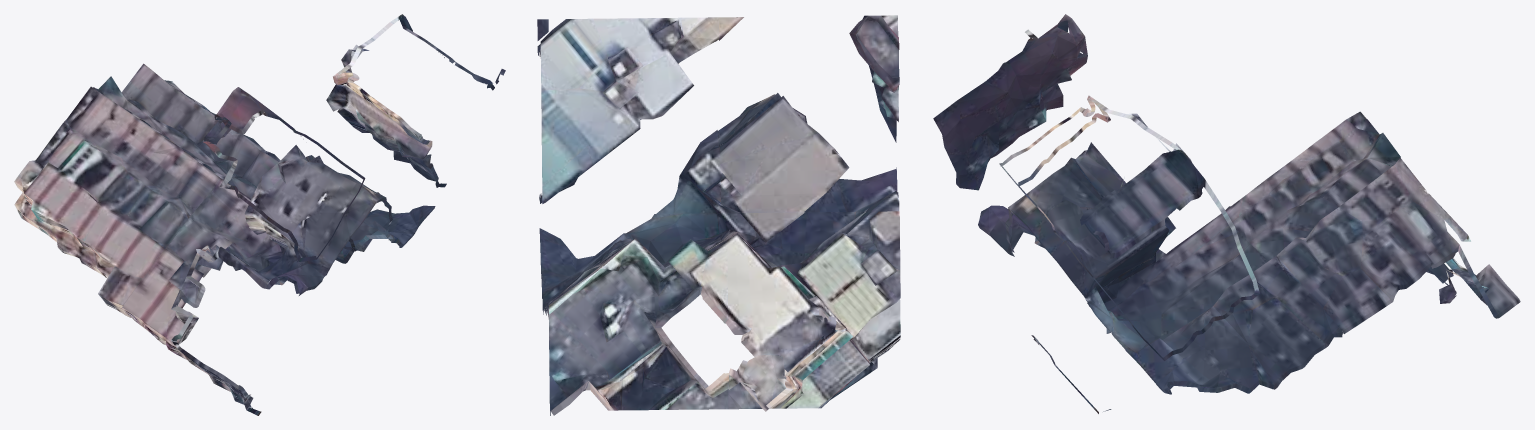
The picture shows the model from 3 angles, left to right: view 1: azimuth 30°, elevation 25°; view 2: azimuth 150°, elevation 25°; view 3: azimuth 270°, elevation 25°; orthographic projection. The views are drawn at different scales.
Size of the model in its own units: 48.11 by 41.92 by 58.99.
1 material, 1 textured.
